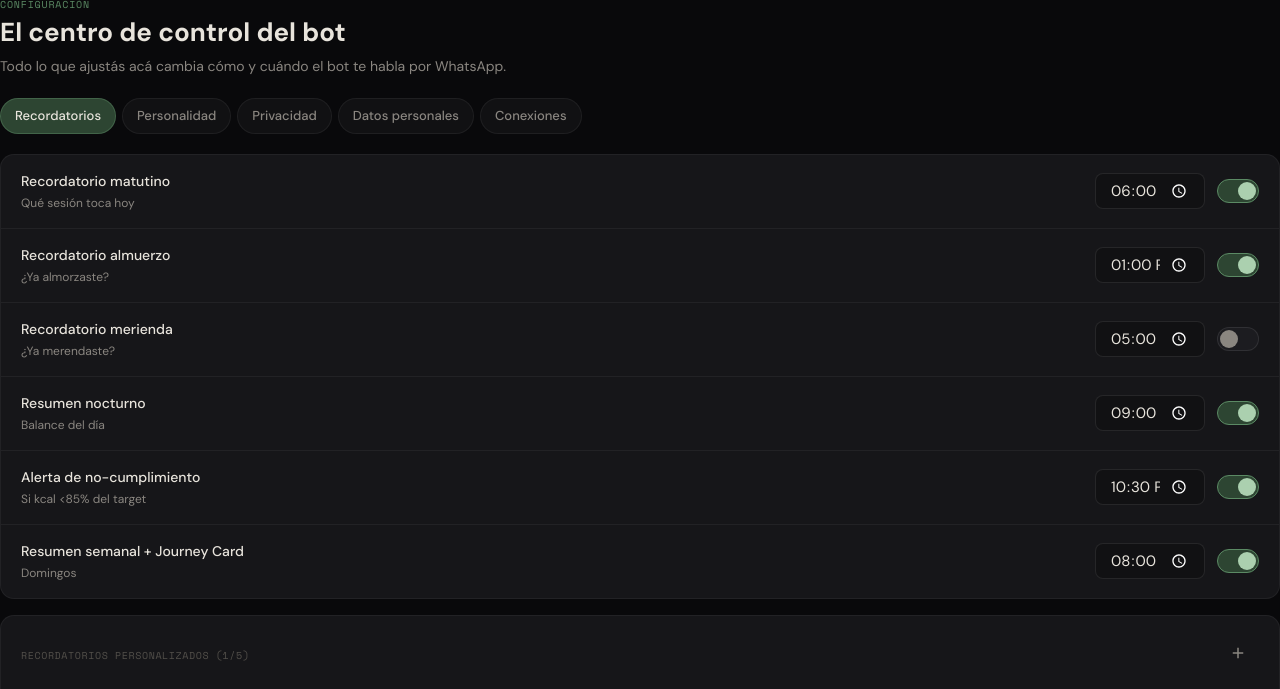
Settings › changes the bot personality and updates the sample message
Click the tab "Personalidad".
click(177, 116)  # box [122, 98, 231, 134]
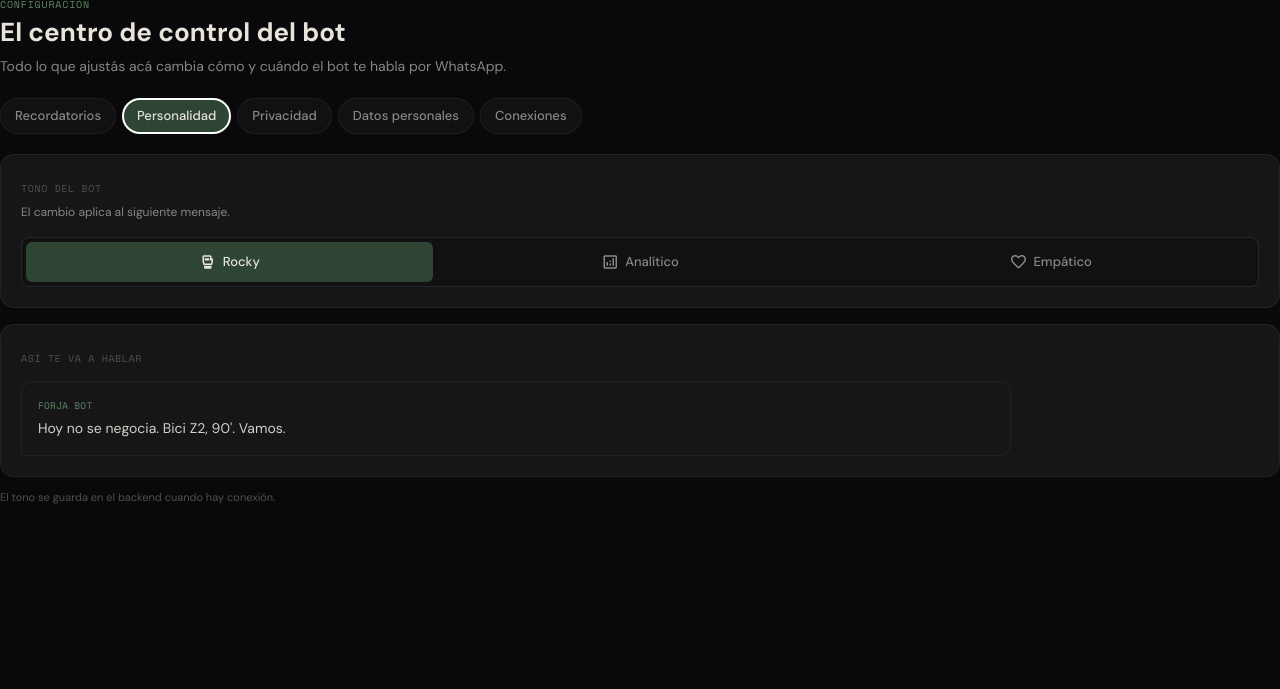
Expected: the text "Hoy no se negocia. Bici Z2, 90'. Vamos." is shown, [38, 419, 286, 437]
Click the button "Empático".
click(1051, 262)  # box [847, 242, 1254, 282]
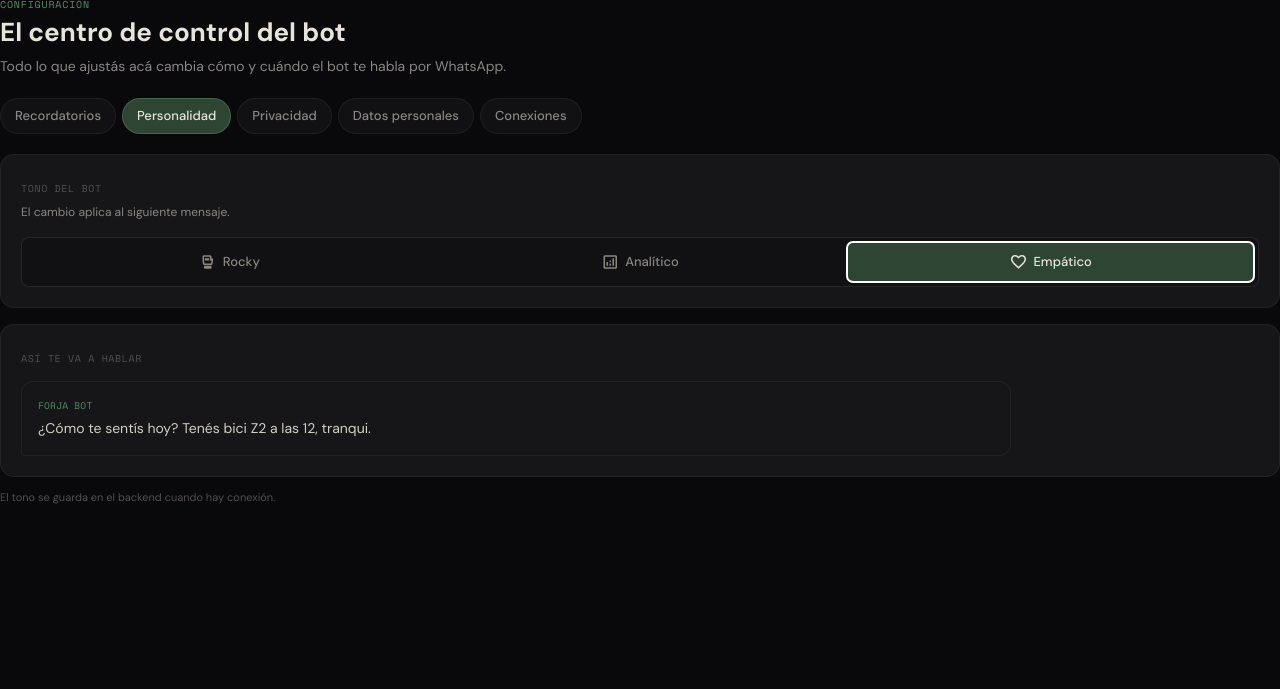
Expected: the text "¿Cómo te sentís hoy? Tenés bici Z2 a las 12, tranqui." is shown, [38, 419, 371, 437]
